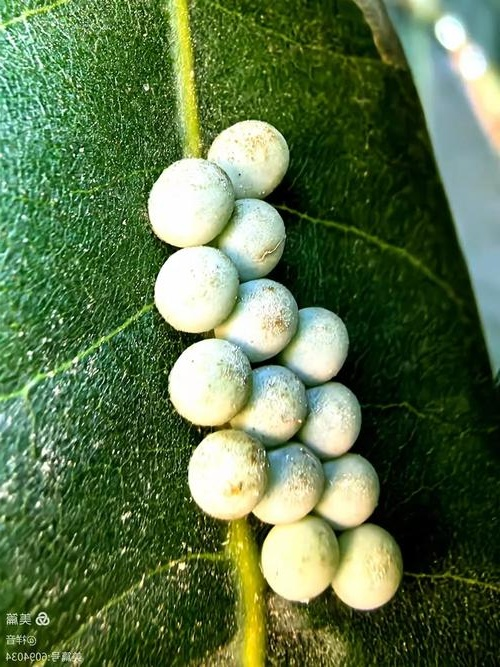Stink_Bug: (157, 109, 387, 605)
